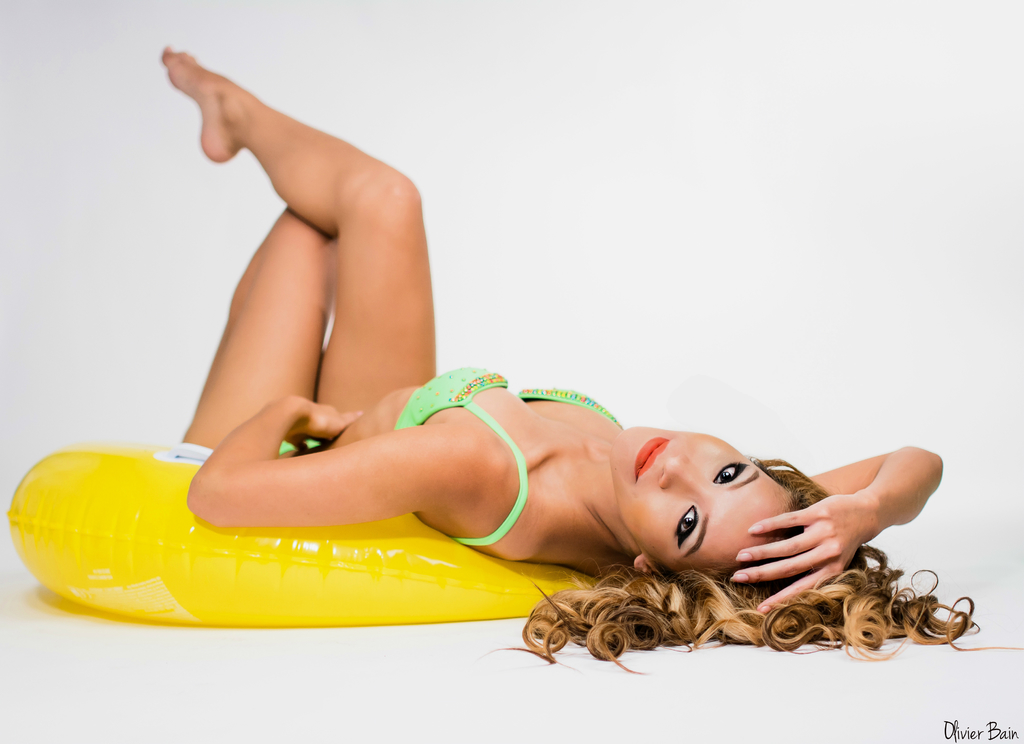face: (612, 429, 802, 563)
